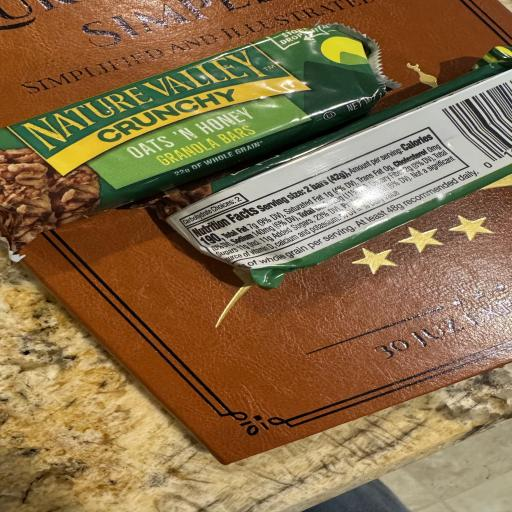granola: (0, 25, 395, 251), (157, 47, 511, 288)
